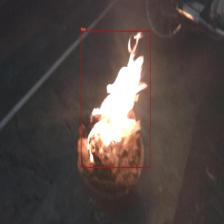fire: (81, 30, 150, 168)
